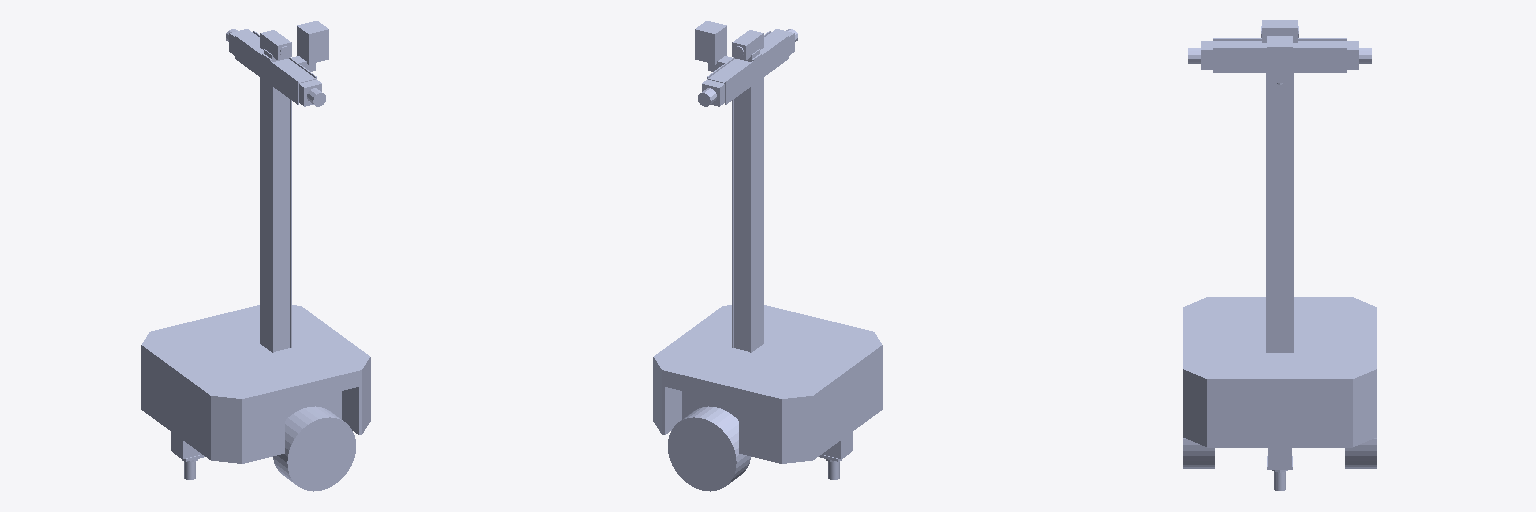
The robot description file, URDF, robot "thormang_mobile":
<robot
  name="thormang_mobile">
  <link
    name="base_link">
    <inertial>
      <origin
        xyz="-0.0602179305439518 2.22044604925031E-16 -0.83137322890434"
        rpy="0 0 0" />
      <mass
        value="43.0172800829917" />
      <inertia
        ixx="2.67241854525916"
        ixy="6.09203297164631E-18"
        ixz="0.174521019181904"
        iyy="2.87153281637056"
        iyz="-2.68823711085977E-16"
        izz="1.34826419418939" />
    </inertial>
    <visual>
      <origin
        xyz="0 0 0"
        rpy="0 0 0" />
      <geometry>
        <mesh
          filename="package://thormang_mobile_description/meshes/base_link.STL" />
      </geometry>
      <material
        name="">
        <color
          rgba="0.792156862745098 0.819607843137255 0.933333333333333 1" />
      </material>
    </visual>
    <collision>
      <origin
        xyz="0 0 0"
        rpy="0 0 0" />
      <geometry>
        <mesh
          filename="package://thormang_mobile_description/meshes/base_link.STL" />
      </geometry>
    </collision>
  </link>
  <link
    name="right_wheel">
    <inertial>
      <origin
        xyz="0 0 0.00106593770977037"
        rpy="0 0 0" />
      <mass
        value="2.52491529444972" />
      <inertia
        ixx="0.00823770242625175"
        ixy="-1.61540557706546E-34"
        ixz="2.67909598937724E-20"
        iyy="0.00823770242625175"
        iyz="1.19667226848005E-18"
        izz="0.0139879933696645" />
    </inertial>
    <visual>
      <origin
        xyz="0 0 0"
        rpy="0 0 0" />
      <geometry>
        <mesh
          filename="package://thormang_mobile_description/meshes/right_wheel.STL" />
      </geometry>
      <material
        name="">
        <color
          rgba="0.792156862745098 0.819607843137255 0.933333333333333 1" />
      </material>
    </visual>
    <collision>
      <origin
        xyz="0 0 0"
        rpy="0 0 0" />
      <geometry>
        <mesh
          filename="package://thormang_mobile_description/meshes/right_wheel.STL" />
      </geometry>
    </collision>
  </link>
  <joint
    name="right_wheel_joint"
    type="continuous">
    <origin
      xyz="0 -0.1995 -1.013025"
      rpy="1.5707963267949 0 0" />
    <parent
      link="base_link" />
    <child
      link="right_wheel" />
    <axis
      xyz="0 0 1" />
  </joint>
  <link
    name="left_wheel">
    <inertial>
      <origin
        xyz="-3.46944695195361E-18 0 0.00158320057450867"
        rpy="0 0 0" />
      <mass
        value="2.47386441382888" />
      <inertia
        ixx="0.00817359016529869"
        ixy="-2.28038141391017E-35"
        ixz="5.64752797459557E-20"
        iyy="0.00817359016529869"
        iyz="-2.38125120558804E-35"
        izz="0.0139260941769117" />
    </inertial>
    <visual>
      <origin
        xyz="0 0 0"
        rpy="0 0 0" />
      <geometry>
        <mesh
          filename="package://thormang_mobile_description/meshes/left_wheel.STL" />
      </geometry>
      <material
        name="">
        <color
          rgba="0.792156862745098 0.819607843137255 0.933333333333333 1" />
      </material>
    </visual>
    <collision>
      <origin
        xyz="0 0 0"
        rpy="0 0 0" />
      <geometry>
        <mesh
          filename="package://thormang_mobile_description/meshes/left_wheel.STL" />
      </geometry>
    </collision>
  </link>
  <joint
    name="left_wheel_joint"
    type="continuous">
    <origin
      xyz="0 0.1995 -1.013025"
      rpy="1.5707963267949 0 3.14159265358979" />
    <parent
      link="base_link" />
    <child
      link="left_wheel" />
    <axis
      xyz="0 0 1" />
  </joint>
  <link
    name="neck_lidar">
    <inertial>
      <origin
        xyz="0 0 -0.0135"
        rpy="0 0 0" />
      <mass
        value="0.600886219667429" />
      <inertia
        ixx="0.000376915309144553"
        ixy="5.77473857832102E-20"
        ixz="7.1866206177619E-20"
        iyy="0.00148043530914456"
        iyz="-1.79005206087208E-20"
        izz="0.00146464292492815" />
    </inertial>
    <visual>
      <origin
        xyz="0 0 -0.0135"
        rpy="0 0 0" />

      <geometry>
        <box size="0.062 0.062 0.087"/>
      </geometry>
      <material
        name="">
        <color
          rgba="0.792156862745098 0.819607843137255 0.933333333333333 1" />
      </material>
    </visual>
    <collision>
      <origin
        xyz="0 0 -0.0135"
        rpy="0 0 0" />
	<geometry>
	  <box size="0.062 0.062 0.087"/>
	</geometry>
    </collision>
  </link>
  <joint
    name="neck_lidar_joint"
    type="revolute">
    <origin
      xyz="0.111 0 0.06"
      rpy="0 0 0" />
    <parent
      link="base_link" />
    <child
      link="neck_lidar" />
    <axis
      xyz="1 0 0" />
 <limit
      lower="-2.3562"
      upper="2.3562"
      effort="0"
      velocity="0" />
  </joint>
</robot>

--- Render facts (derived) ---
The picture shows the robot from 3 angles, left to right: view 1: azimuth 30°, elevation 25°; view 2: azimuth 150°, elevation 25°; view 3: azimuth 270°, elevation 25°; orthographic projection.
Model thormang_mobile with 4 links and 3 joints (1 revolute, 2 continuous), rooted at base_link, posed every joint at zero.
Visible links, largest first — view 1: base_link, right_wheel, neck_lidar; view 2: base_link, left_wheel, neck_lidar; view 3: base_link, neck_lidar, right_wheel, left_wheel.
Link boxes in pixels (x1,y1,x2,y2): base_link: (141,29,370,479); right_wheel: (273,406,355,491); neck_lidar: (297,21,328,64); base_link: (653,29,882,479); left_wheel: (668,406,750,491); neck_lidar: (695,21,726,64); base_link: (1183,20,1376,490); neck_lidar: (1267,36,1292,78); right_wheel: (1183,438,1214,468); left_wheel: (1345,438,1376,468).
Size in the robot's own frame: 0.48 by 0.48 by 1.21 metres.
Meshes: 3 distinct files referenced, 3 mesh visuals loaded (3 binary STL).